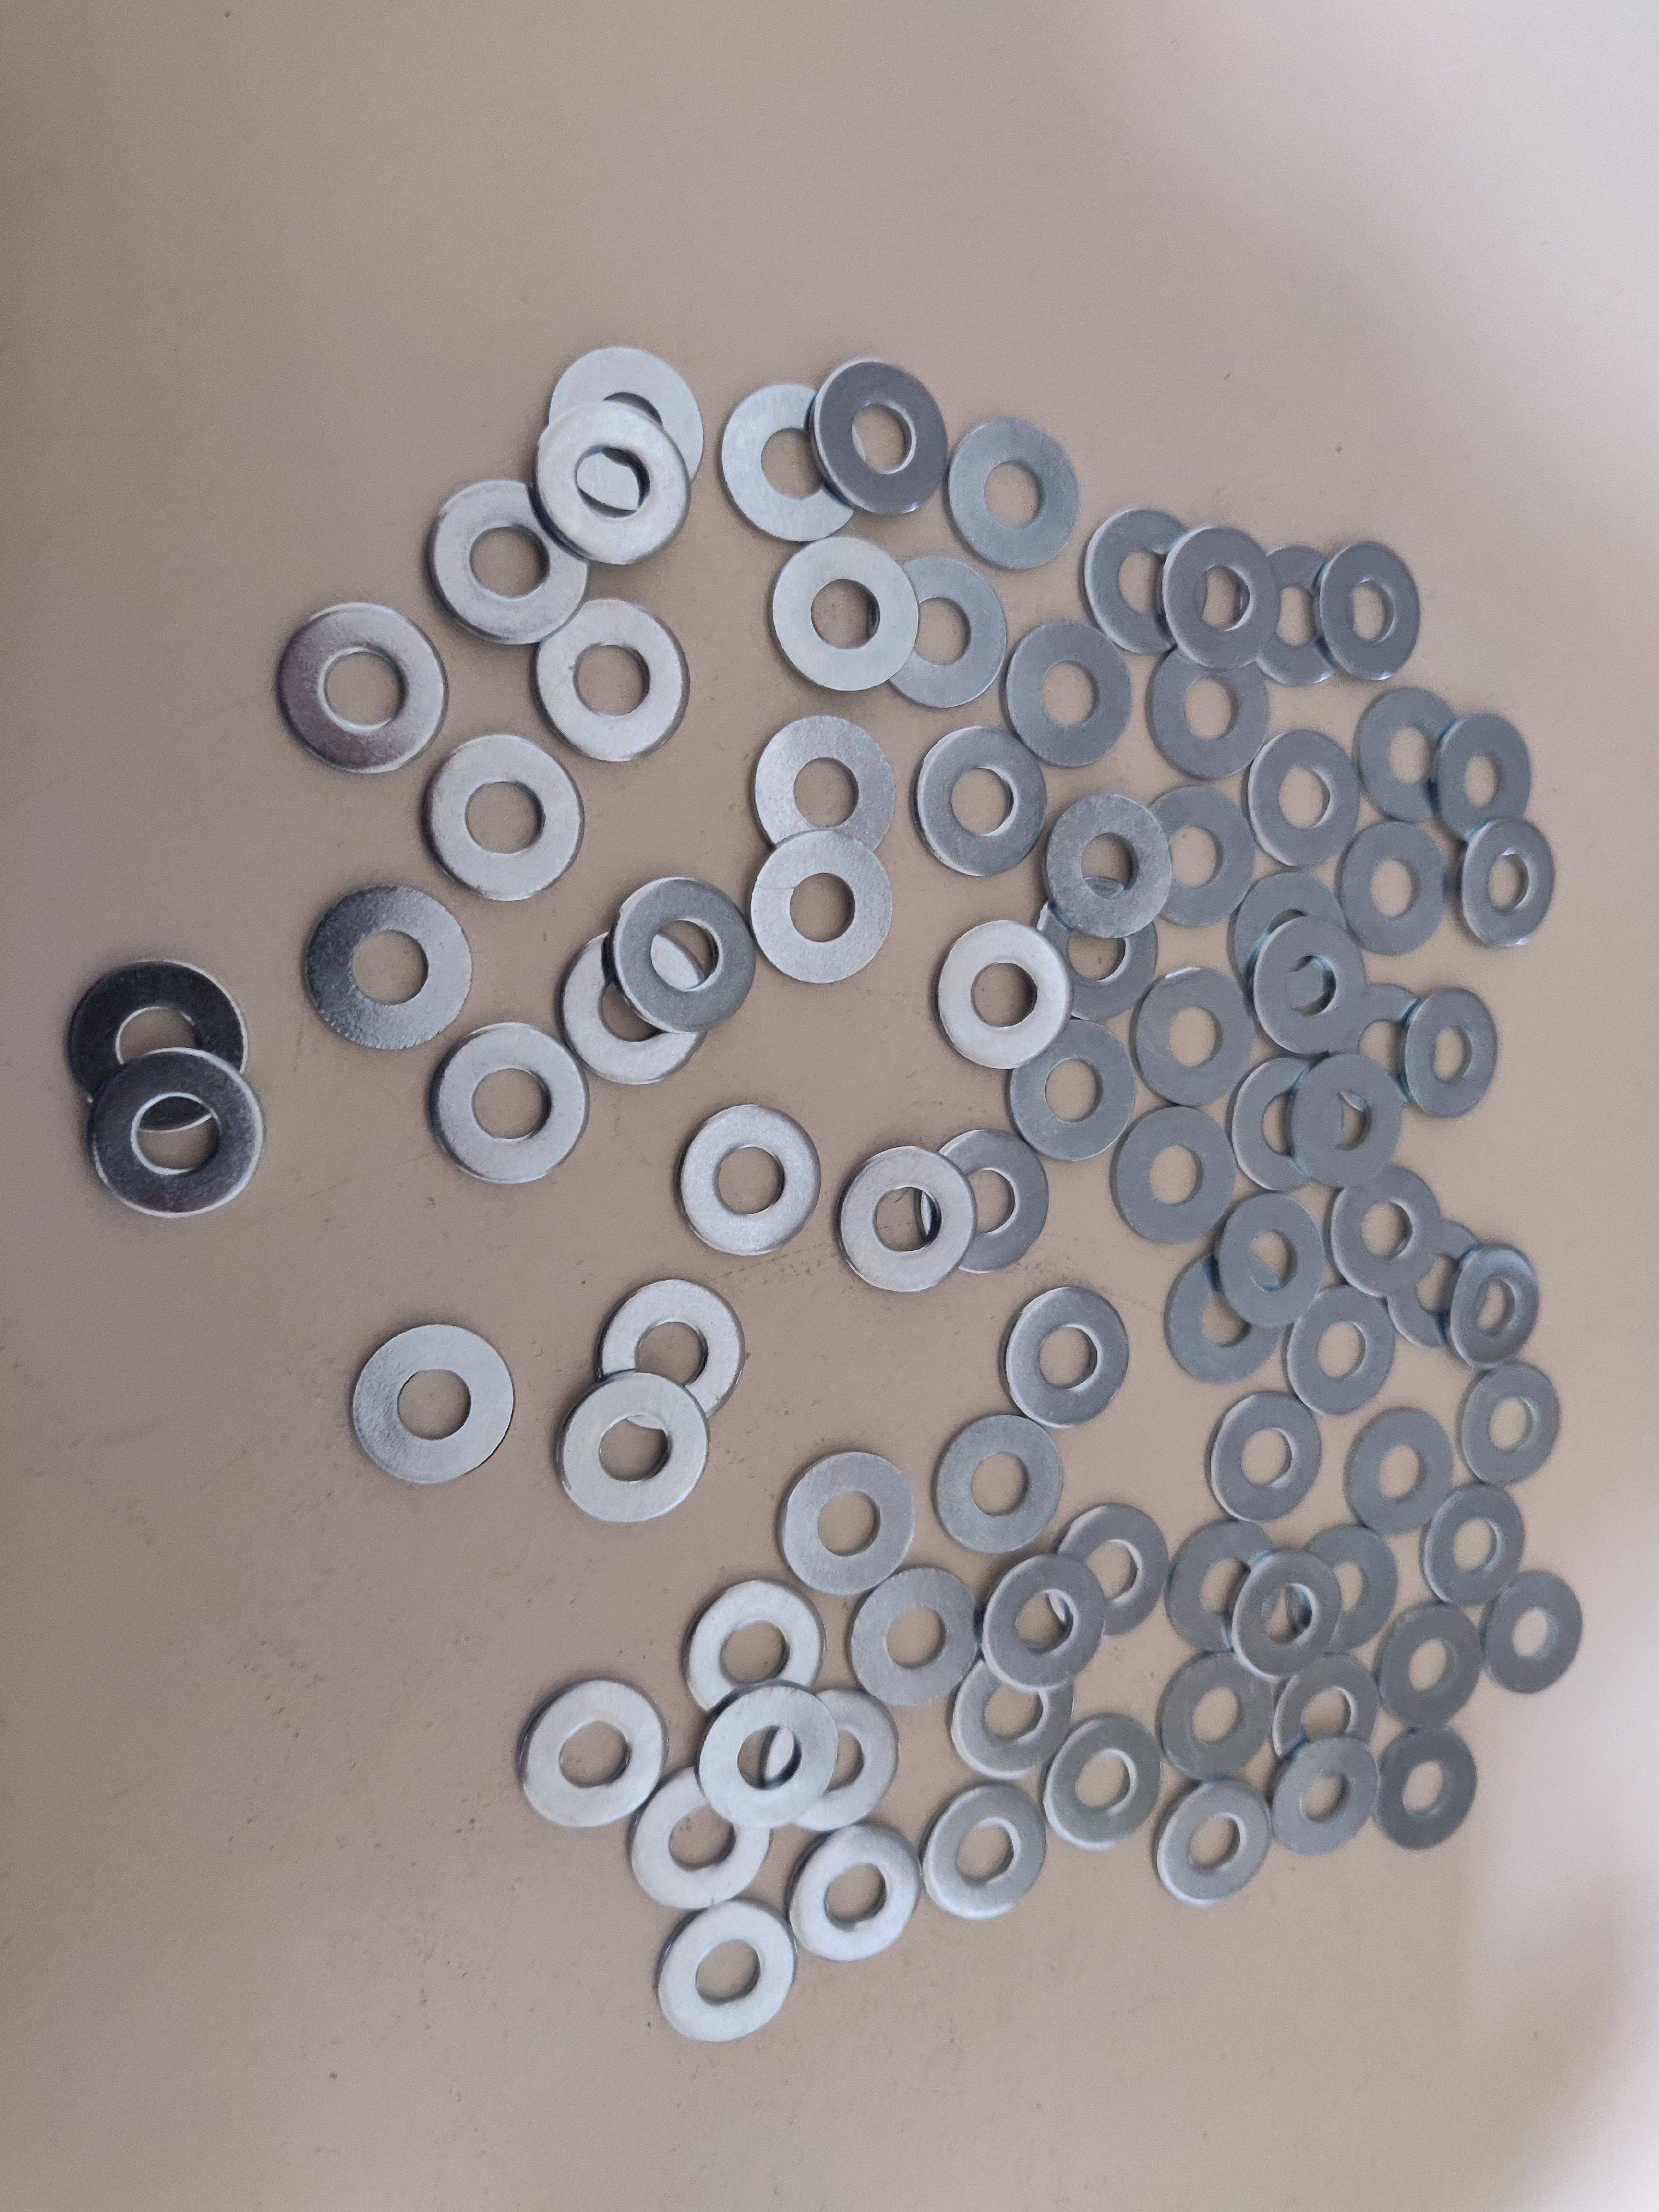circle: (272, 599, 450, 779), (92, 1047, 263, 1223), (68, 960, 246, 1127), (303, 881, 472, 1054), (422, 733, 587, 906), (769, 535, 922, 716), (347, 1324, 516, 1487), (533, 603, 694, 772), (429, 477, 591, 641), (526, 402, 688, 566), (547, 345, 702, 514), (430, 1024, 592, 1184), (807, 354, 953, 526), (720, 380, 871, 545), (906, 718, 1054, 887), (744, 711, 899, 869), (741, 831, 894, 989), (561, 932, 714, 1089), (941, 411, 1082, 578), (1136, 629, 1283, 789), (558, 1367, 709, 1521), (673, 1106, 823, 1259), (1000, 610, 1136, 779), (521, 1676, 667, 1829), (929, 918, 1075, 1069), (629, 1759, 774, 1912), (612, 874, 751, 1031), (599, 1282, 746, 1430), (875, 557, 1016, 711), (762, 1693, 897, 1851), (652, 1898, 798, 2043), (699, 1684, 840, 1832), (840, 1144, 972, 1301), (1152, 516, 1281, 676), (1007, 1012, 1141, 1165), (920, 1127, 1053, 1282), (847, 1562, 979, 1716), (1127, 965, 1260, 1118), (1105, 1104, 1243, 1251), (781, 1446, 915, 1595), (781, 1824, 920, 1965), (972, 1550, 1110, 1693), (1044, 789, 1173, 941), (1086, 505, 1213, 658), (1037, 874, 1162, 1024), (687, 1581, 824, 1717), (929, 1413, 1061, 1554), (1162, 1510, 1290, 1655), (1155, 1649, 1290, 1782), (1243, 725, 1361, 874), (1004, 1287, 1129, 1428), (1352, 678, 1469, 827), (1429, 704, 1547, 848), (1326, 1157, 1445, 1301), (917, 1785, 1046, 1918), (1046, 1503, 1169, 1641), (1316, 535, 1427, 686), (951, 1642, 1075, 1778), (1147, 782, 1260, 930), (1047, 1712, 1164, 1853), (1169, 1251, 1286, 1392), (1288, 1052, 1408, 1188), (1148, 1778, 1276, 1905), (1415, 1474, 1537, 1606), (1286, 1280, 1405, 1416), (1229, 1547, 1345, 1684), (1251, 914, 1368, 1052), (1335, 819, 1452, 954), (1363, 1728, 1486, 1853), (1220, 1188, 1328, 1331), (1209, 1390, 1323, 1524), (1298, 1521, 1403, 1663), (1267, 1733, 1382, 1862), (1455, 813, 1561, 951), (1272, 1649, 1385, 1778), (1345, 1407, 1457, 1536), (1478, 1571, 1588, 1700), (1403, 984, 1506, 1120), (1378, 1599, 1485, 1728), (1462, 1360, 1561, 1493), (1445, 1240, 1539, 1376)
